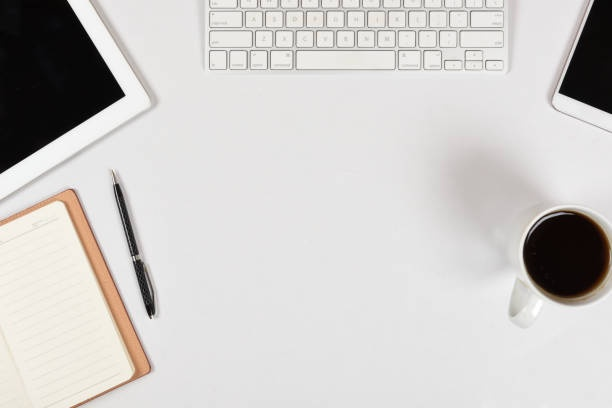keyboard: (202, 1, 510, 74)
phone: (1, 1, 149, 205), (550, 1, 612, 131)
